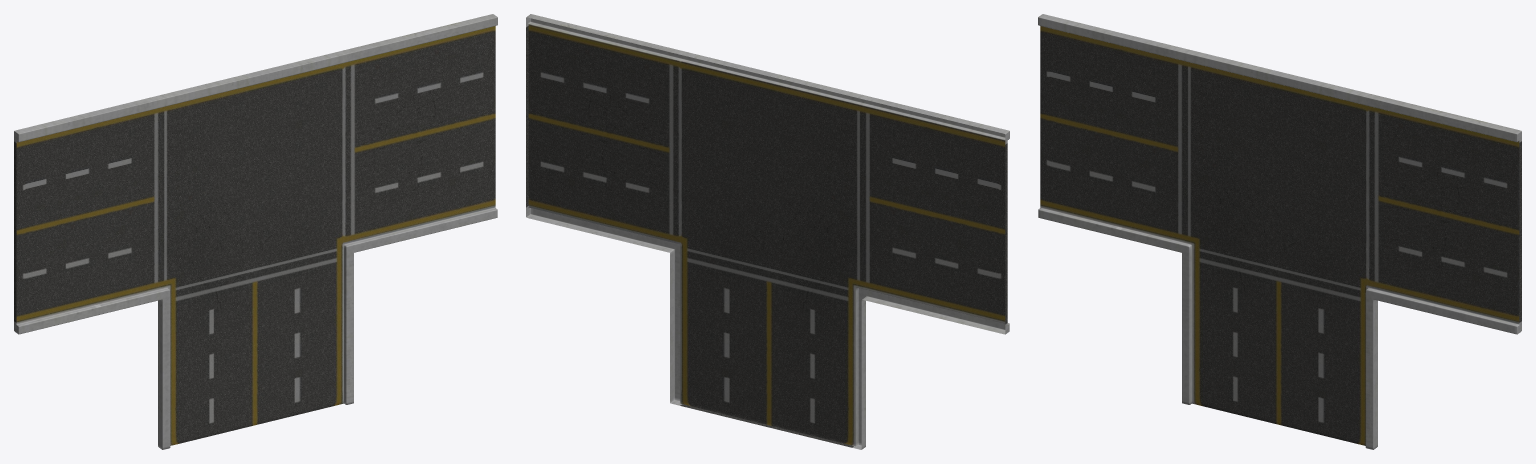
The model's file is Road.obj.
The picture shows the model from 3 angles, left to right: view 1: azimuth 30°, elevation 25°; view 2: azimuth 150°, elevation 25°; view 3: azimuth 330°, elevation 25°; orthographic projection.
Visible parts, largest first — view 1: RoadSectionT; view 2: RoadSectionT; view 3: RoadSectionT.
Part boxes in pixels (box(x1,y1,x2,y2)): RoadSectionT: box(14, 14, 497, 449); RoadSectionT: box(526, 14, 1009, 449); RoadSectionT: box(1038, 14, 1521, 449).
Bounding box in the file's own units: 1829 × 1280 × 30.48.
